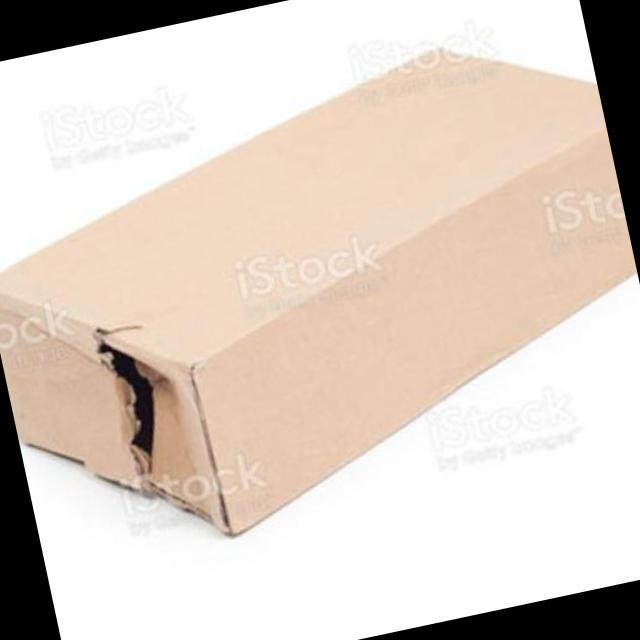box: (0, 48, 640, 537)
crushed: (0, 294, 88, 385)
opened: (94, 319, 175, 485)
